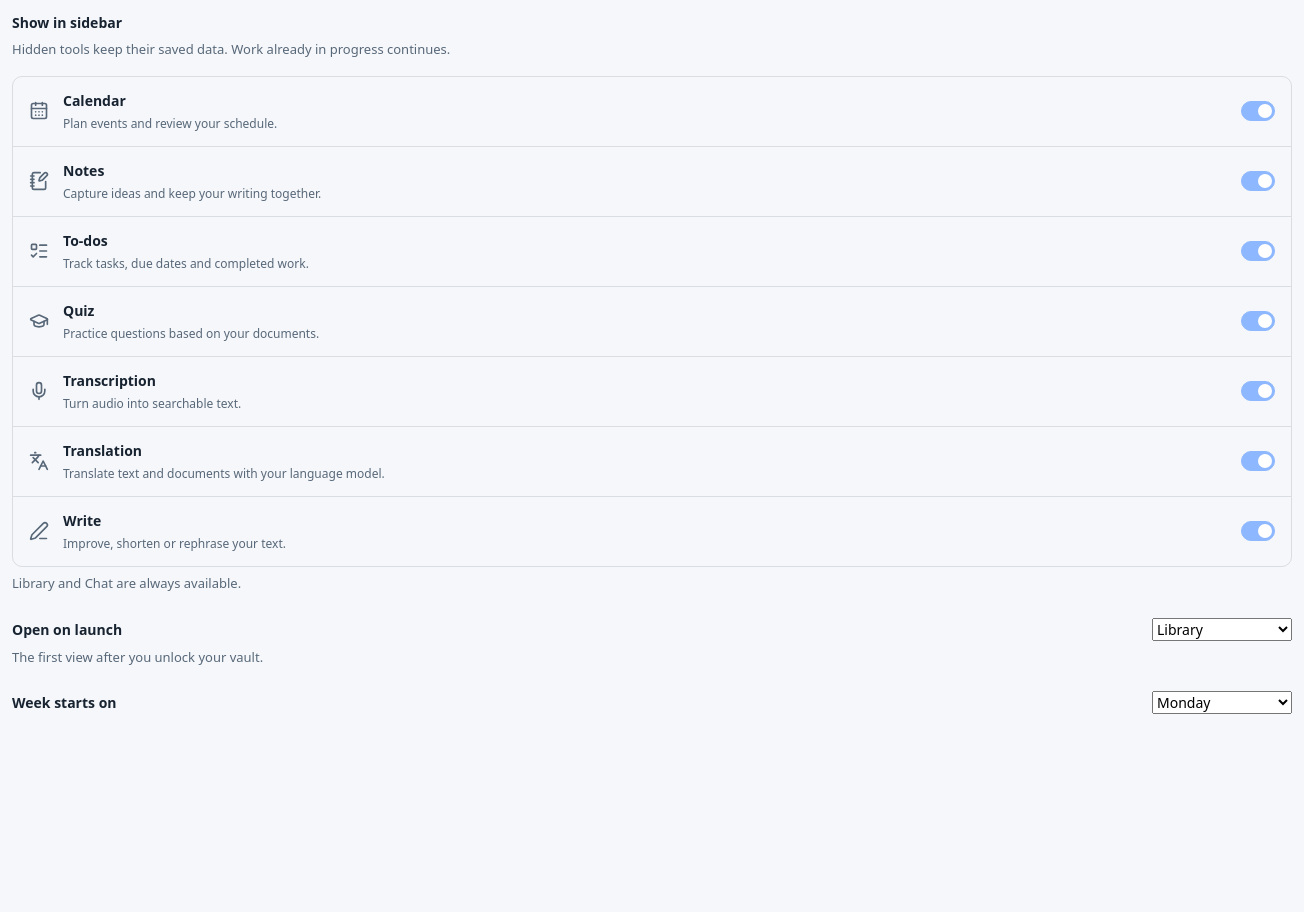
Test: Workspace preferences › leaves a module enabled and reports a failed durable save
What coordinates should you click on to do the following:
click the switch labelled "Calendar"
I would click on:
 (1258, 111)
Its box is [1241,101,1275,121].
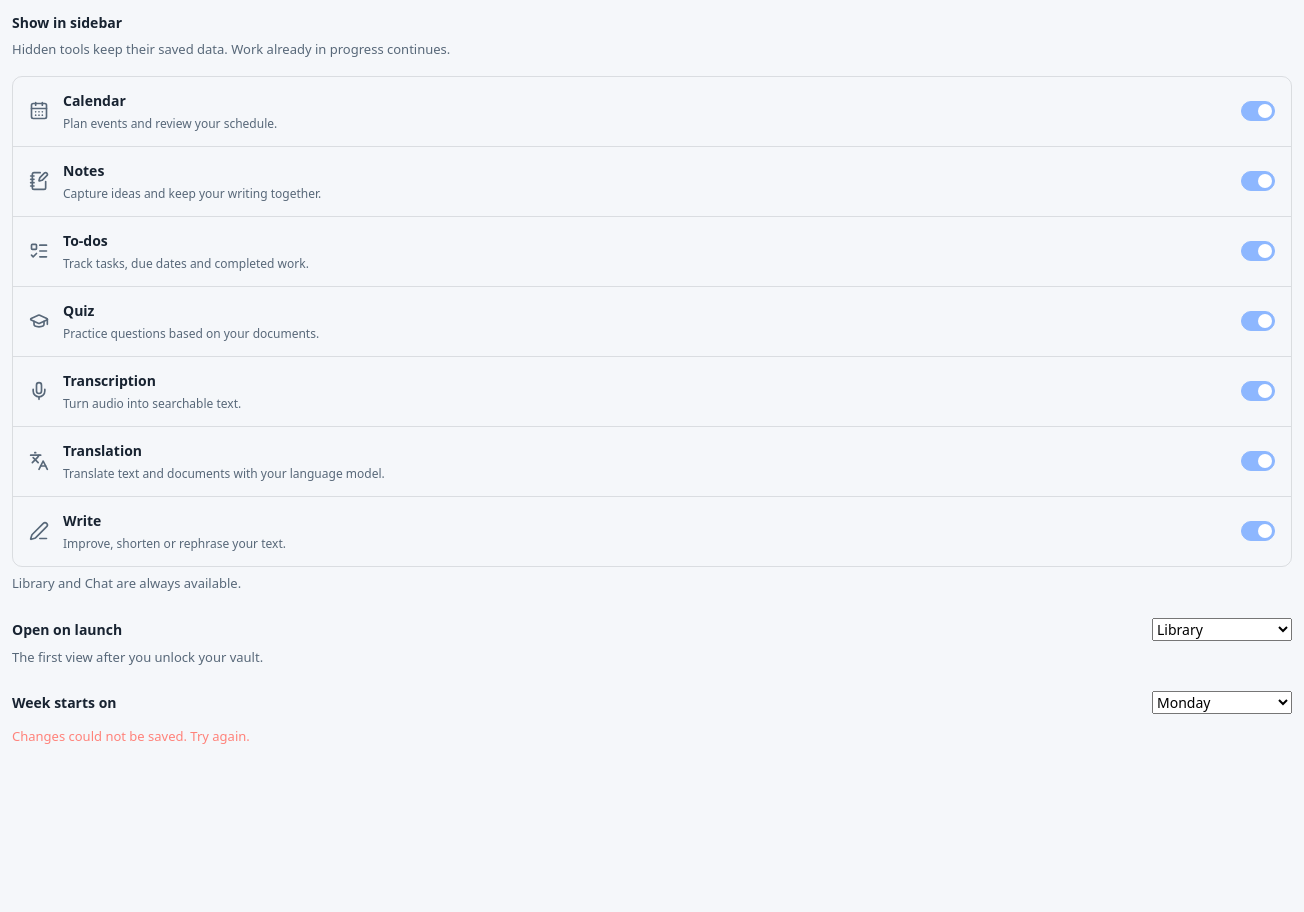
expect the message shows "could not be saved": met, box [12,727,250,745]
